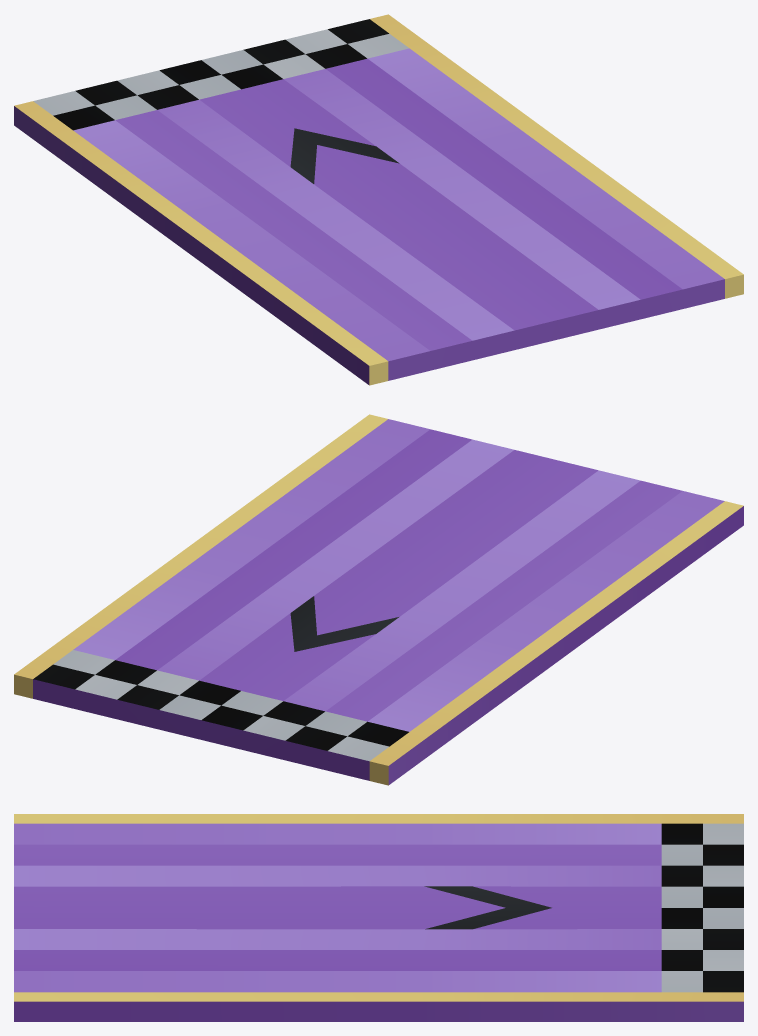
The model's file is ENV_Starting_Track.fbx.
3 renders of one model, top to bottom at view 1: azimuth 30°, elevation 25°; view 2: azimuth 150°, elevation 25°; view 3: azimuth 270°, elevation 25°, orthographic. The views are drawn at different scales.
Visible parts, largest first — view 1: ENV_Starting_Track; view 2: ENV_Starting_Track; view 3: ENV_Starting_Track.
Boxes of the visible parts, left/top/right/bottom form: ENV_Starting_Track: left=14, top=14, right=743, bottom=385; ENV_Starting_Track: left=14, top=414, right=743, bottom=785; ENV_Starting_Track: left=14, top=814, right=743, bottom=1021.
Size of the model in its own units: 9.97 by 0.5 by 16.39.
